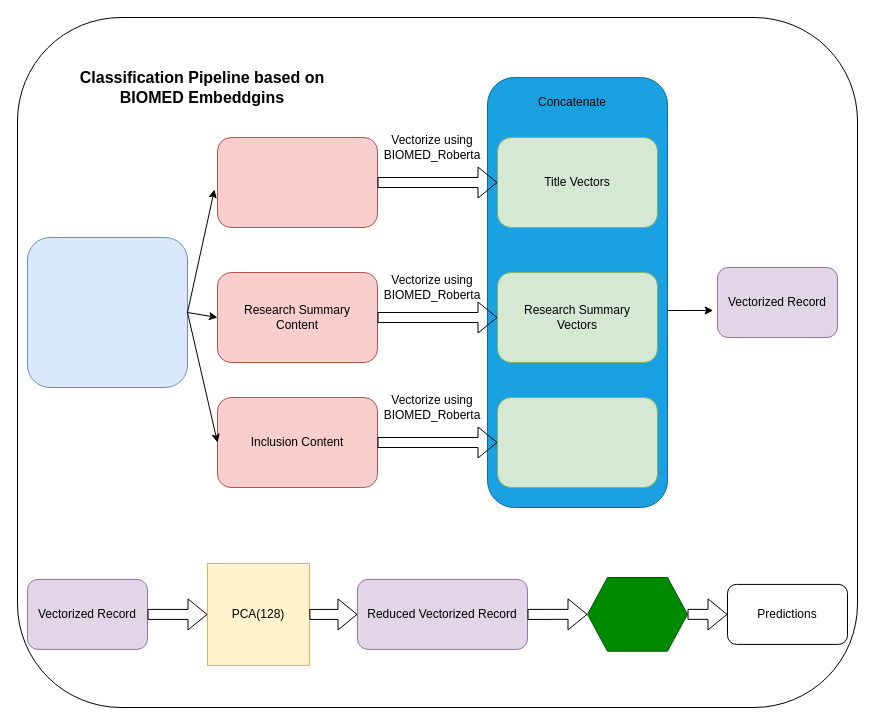
Some shapes in this 875 by 725 pixel diagram are drawn without their labels. Here are the shapes that lost their labels. From the top down, the centre of each, then its label:
At point (297, 182): "Title Content".
At point (107, 312): "Record Data".
At point (577, 442): "Inclusion Vectors".
At point (637, 613): "SVM Model".
